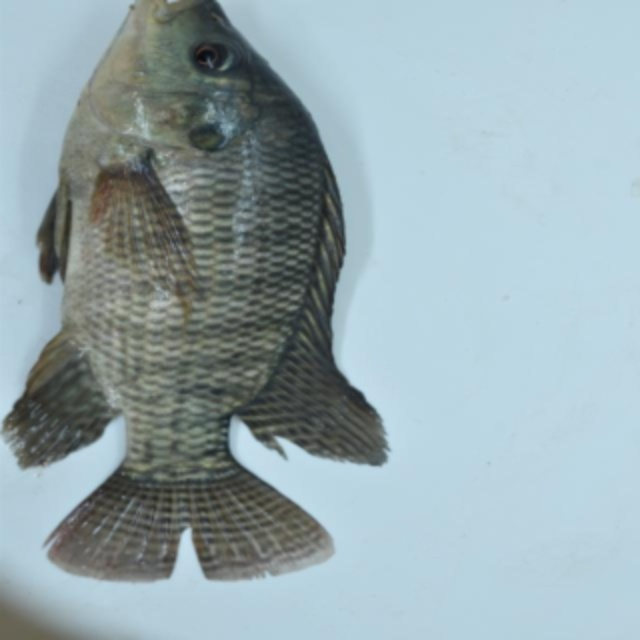Healthy Fish: (0, 0, 397, 588)
